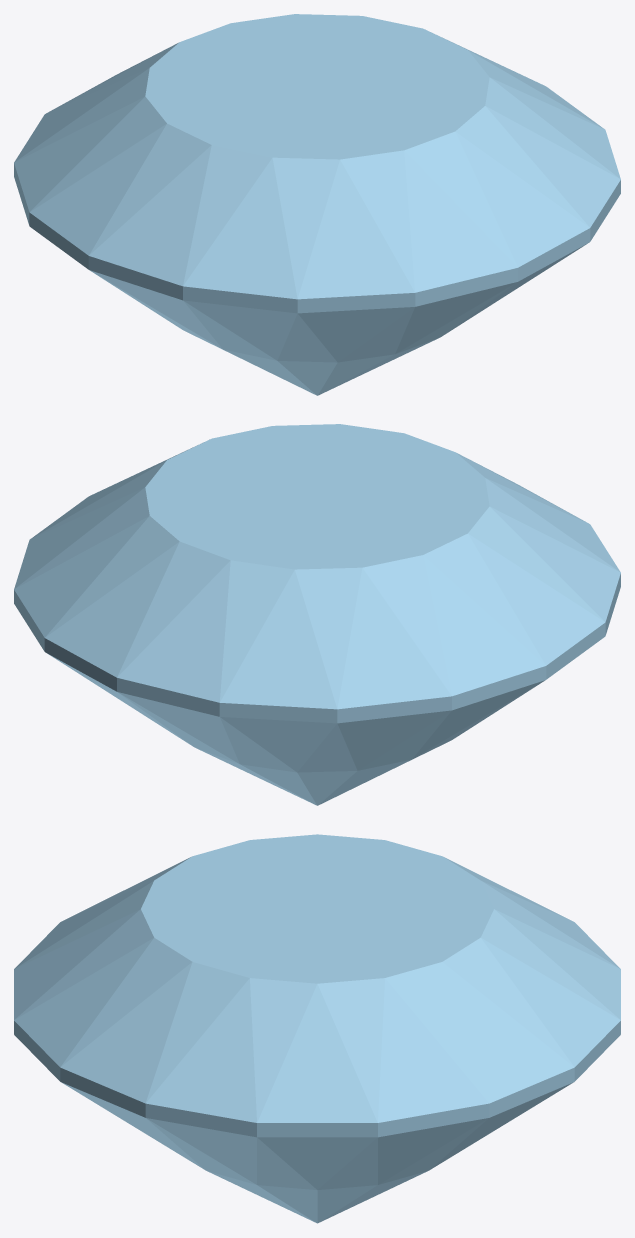
Rendered from zircon.glb.
3 renders of one model, top to bottom at view 1: azimuth 30°, elevation 25°; view 2: azimuth 150°, elevation 25°; view 3: azimuth 270°, elevation 25°, orthographic.
Visible parts, largest first — view 1: zircon; view 2: zircon; view 3: zircon.
Part boxes in pixels (<box>): zircon: <box>14,14,620,395</box>; zircon: <box>14,424,620,805</box>; zircon: <box>14,834,620,1223</box>.
Bounding box in the file's own units: 0.25 × 0.1429 × 0.25.
